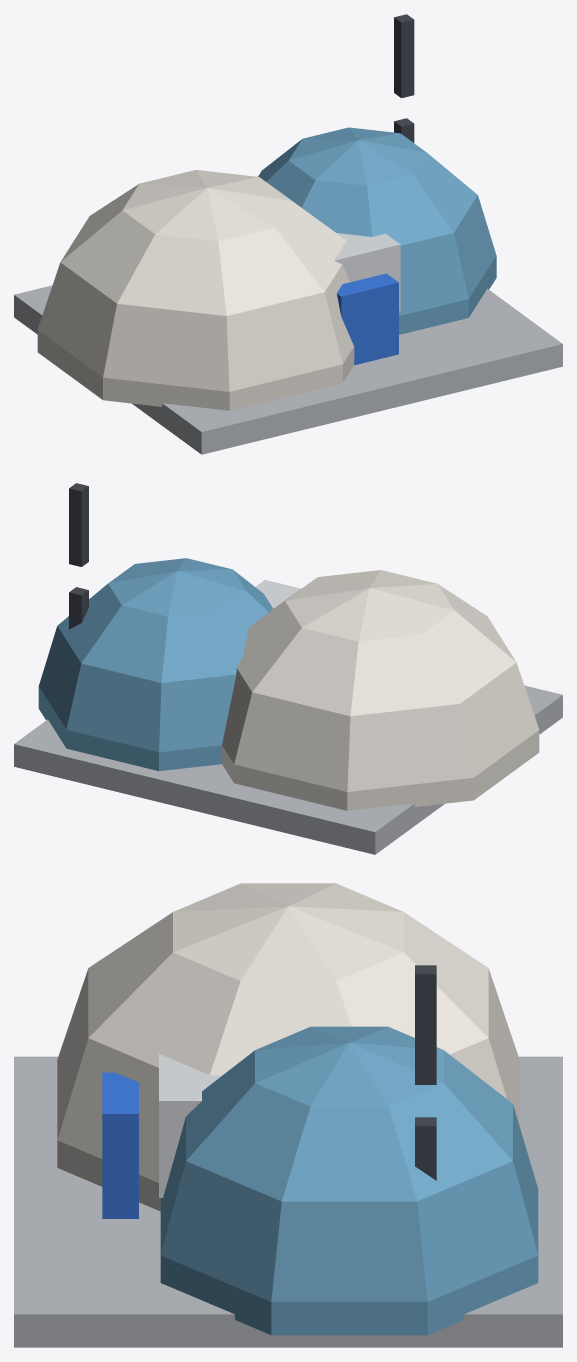
File: house_2_b.glb
The picture shows the model from 3 angles, top to bottom: view 1: azimuth 30°, elevation 25°; view 2: azimuth 150°, elevation 25°; view 3: azimuth 270°, elevation 25°; orthographic projection. The views are drawn at different scales.
Visible parts, largest first — view 1: house_2_b; view 2: house_2_b; view 3: house_2_b.
Boxes of the visible parts, x1,y1,x2,y2 form: house_2_b: (14,14,562,454); house_2_b: (14,483,562,854); house_2_b: (14,883,562,1347).
Bounding box in the file's own units: 0.2327 × 0.132 × 0.18.
